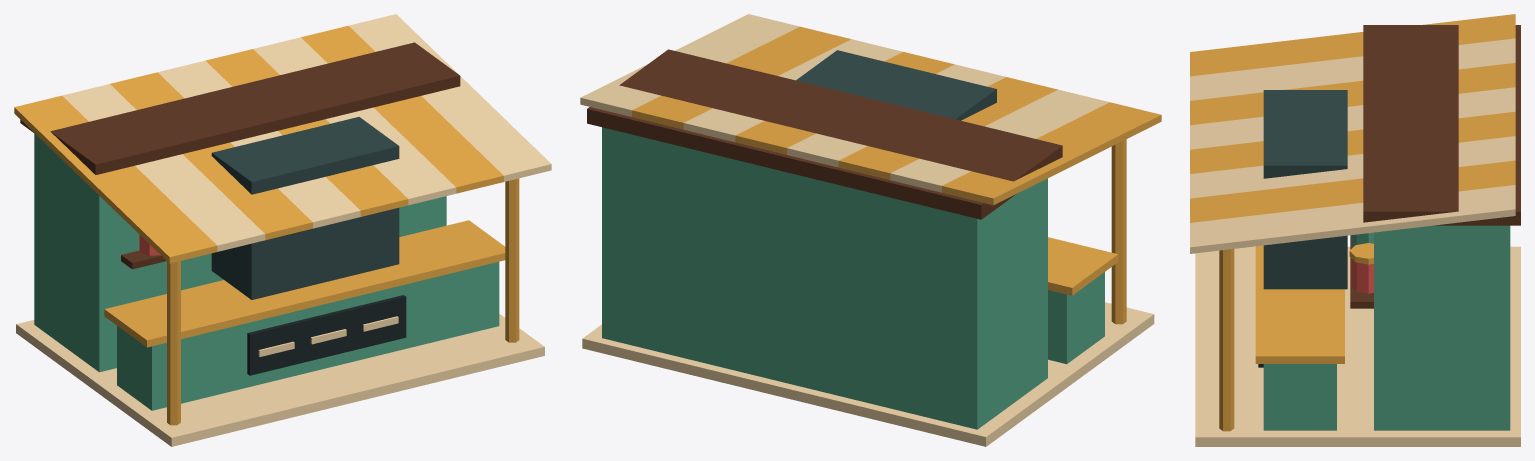
File: ParkParkBoothClaw.obj
3 renders of one model, left to right at view 1: azimuth 30°, elevation 25°; view 2: azimuth 150°, elevation 25°; view 3: azimuth 270°, elevation 25°, orthographic. The views are drawn at different scales.
Parts seen in each view (by area): view 1: ParkParkBoothClaw; view 2: ParkParkBoothClaw; view 3: ParkParkBoothClaw.
Part boxes in pixels (x1,y1,x2,y2): ParkParkBoothClaw: (14, 14, 551, 446); ParkParkBoothClaw: (580, 14, 1161, 446); ParkParkBoothClaw: (1190, 14, 1520, 446).
Size of the model in its own units: 8.8 by 5.04 by 6.3.
